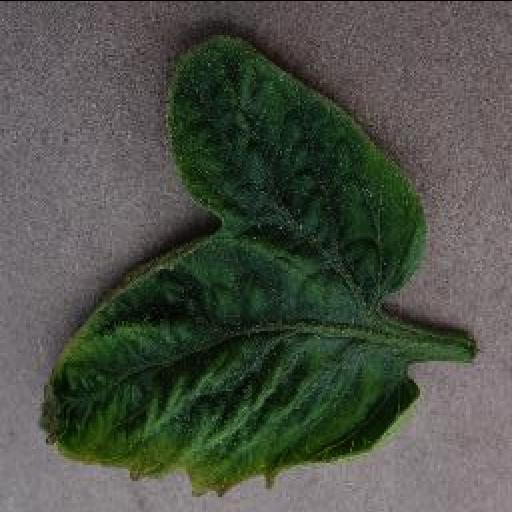disease_tomato: (38, 28, 428, 494)
